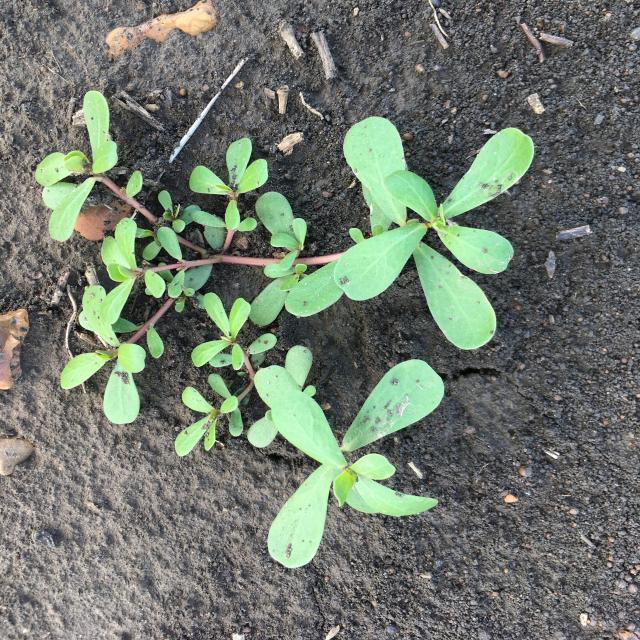Purslane: (35, 91, 535, 568)
